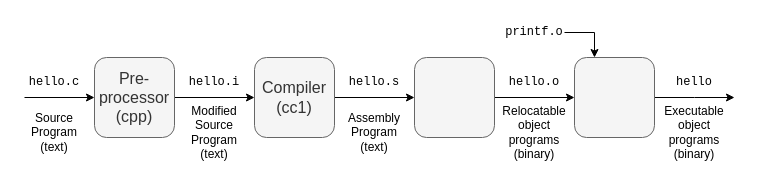
This 760x178 diagram has some shape labels left out. Each missing label, with the centre of its shape:
"Assembler (as)" goes at pixel 454 97.
"Linker (ld)" goes at pixel 614 97.
